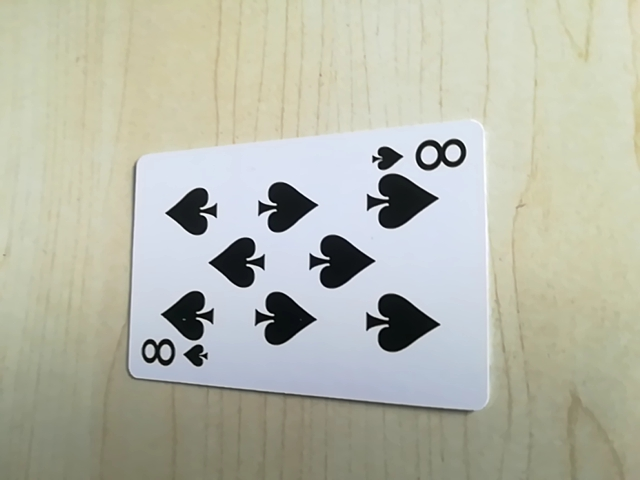ht 8: (370, 131, 471, 176), (133, 335, 211, 376)
